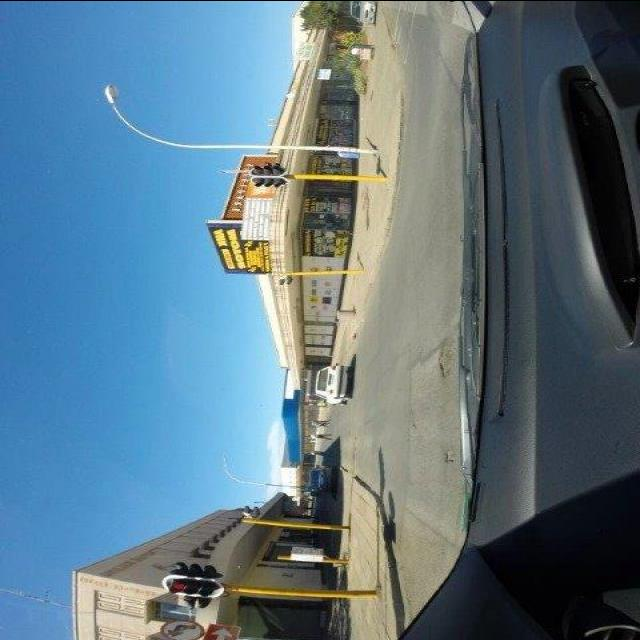lubang: (434, 333, 459, 383), (439, 446, 459, 466)
